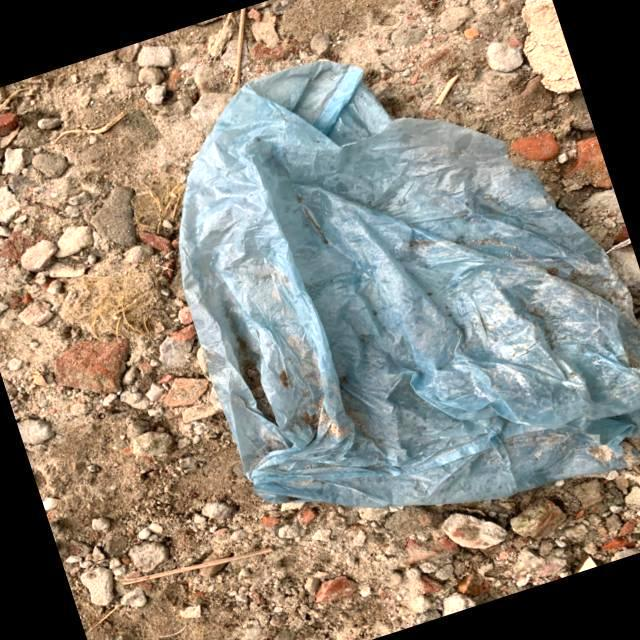polythene: (231, 84, 568, 497)
